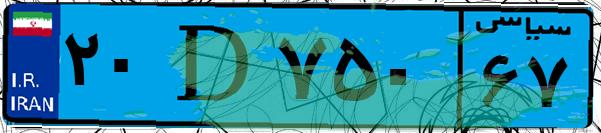0: (385, 28, 445, 110), (110, 28, 158, 98)
2: (57, 26, 110, 100)
5: (330, 28, 385, 110)
6: (475, 38, 525, 113)
7: (270, 28, 330, 110), (525, 38, 570, 115)
D: (158, 12, 270, 120)
